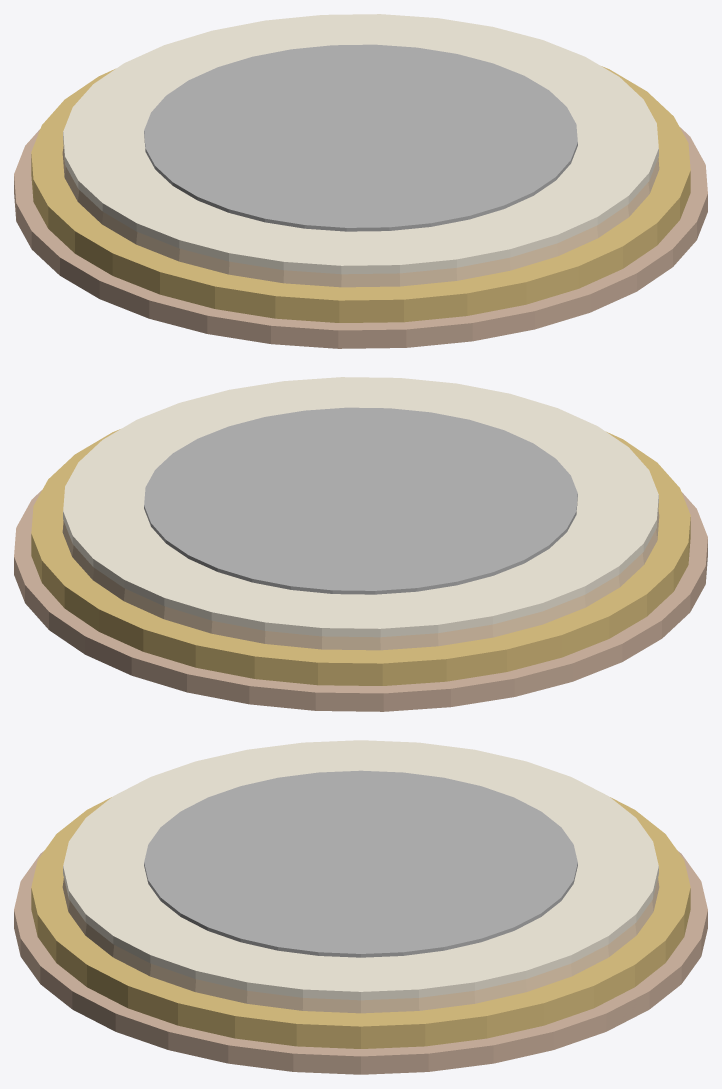
Rendered from PG_Space_Medallion.fbx.
The picture shows the model from 3 angles, top to bottom: view 1: azimuth 30°, elevation 25°; view 2: azimuth 150°, elevation 25°; view 3: azimuth 270°, elevation 25°; orthographic projection.
Parts seen in each view (by area): view 1: PG_Space_Medallion; view 2: PG_Space_Medallion; view 3: PG_Space_Medallion.
Part boxes in pixels (x1,y1,x2,y2): PG_Space_Medallion: (14, 14, 707, 348); PG_Space_Medallion: (14, 377, 707, 711); PG_Space_Medallion: (14, 740, 707, 1074).
Size of the model in its own units: 3.36 by 0.3514 by 3.36.
